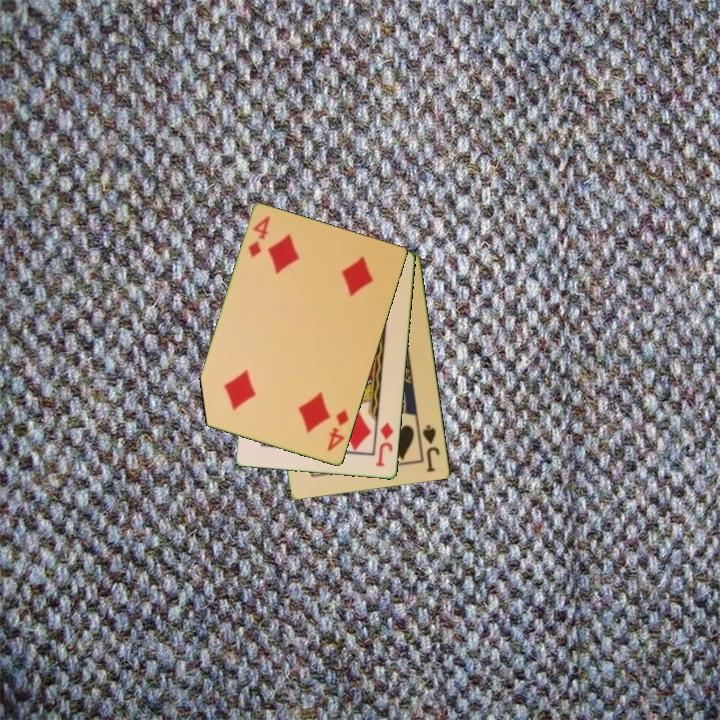4d: (324, 406, 352, 454), (245, 213, 273, 261)
Jd: (373, 419, 396, 470)
Js: (419, 422, 443, 475)
